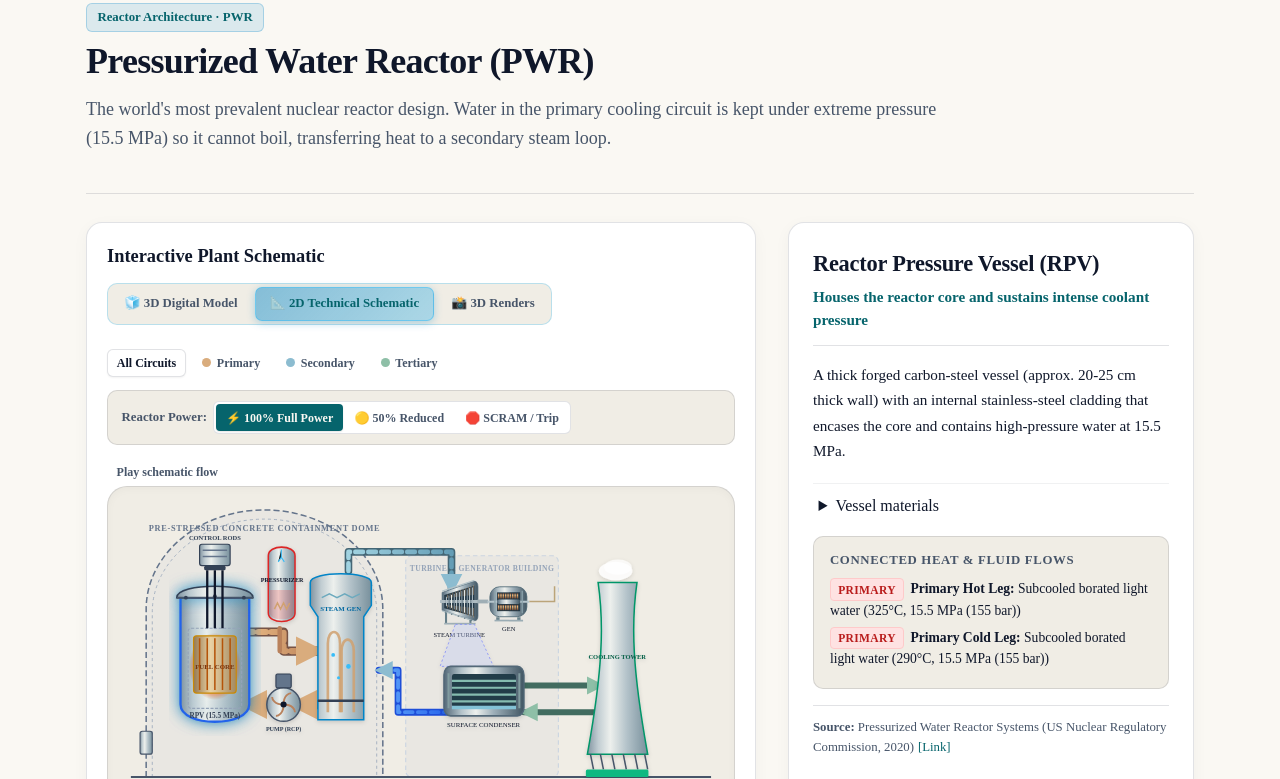
Test: ReactorExplorer Component (R15) › updates power level simulator state when buttons are clicked
The width and height of the screenshot is (1280, 779).
SCRAM button
Click the radio button labelled "🛑 SCRAM / Trip" at (512, 418), box [456,404,568,431]
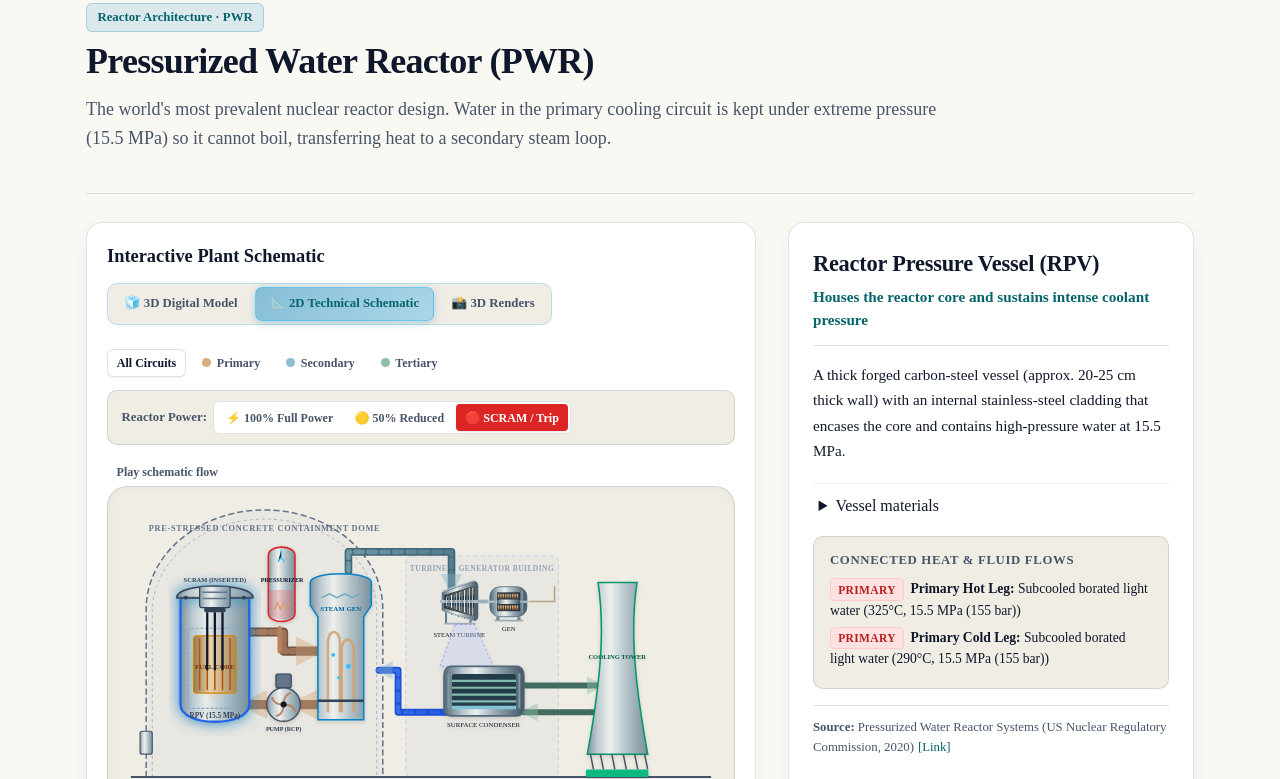
Check: the radio button labelled "🛑 SCRAM / Trip" is checked, box [456,404,568,431]
50% power button
Click the radio button labelled "🟡 50% Reduced" at (399, 418), box [345,404,454,431]
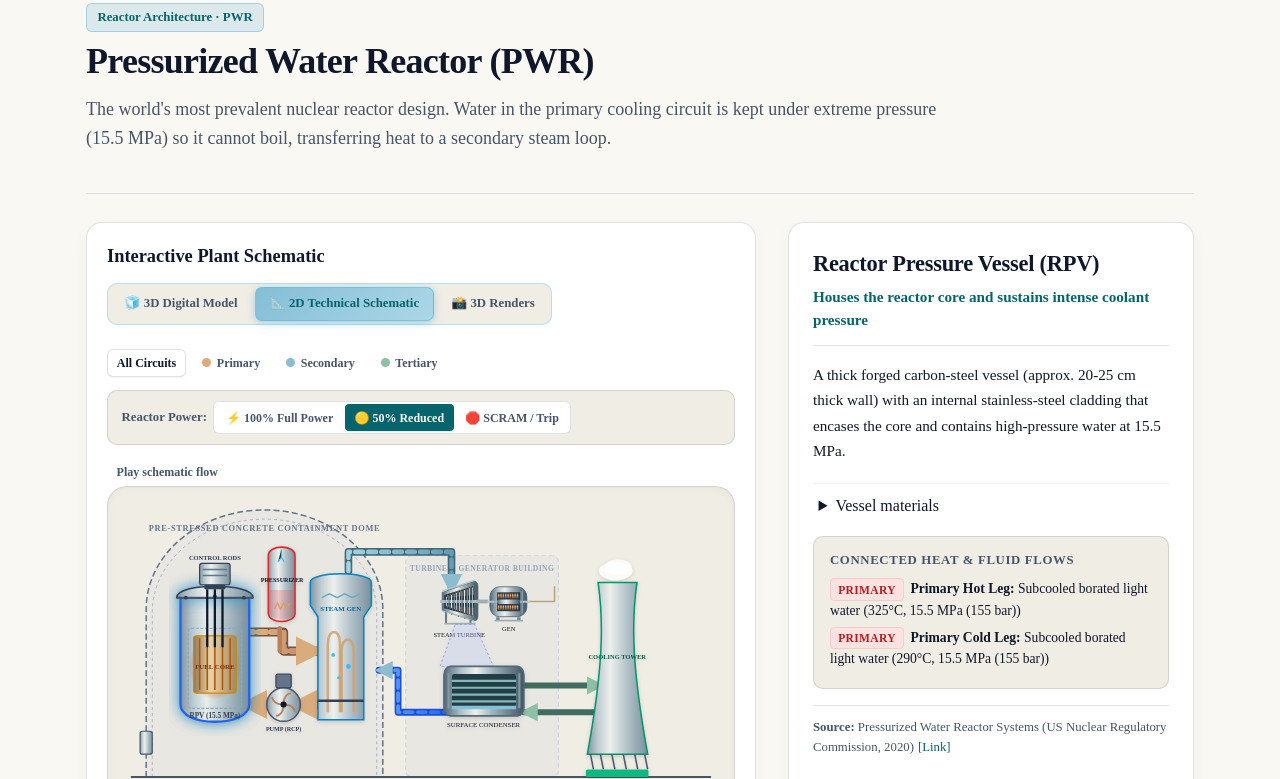
Check: the radio button labelled "🟡 50% Reduced" is checked, box [345,404,454,431]
100% full power button
Click the radio button labelled "⚡ 100% Full Power" at (280, 418), box [216,404,343,431]
(page scrolled)
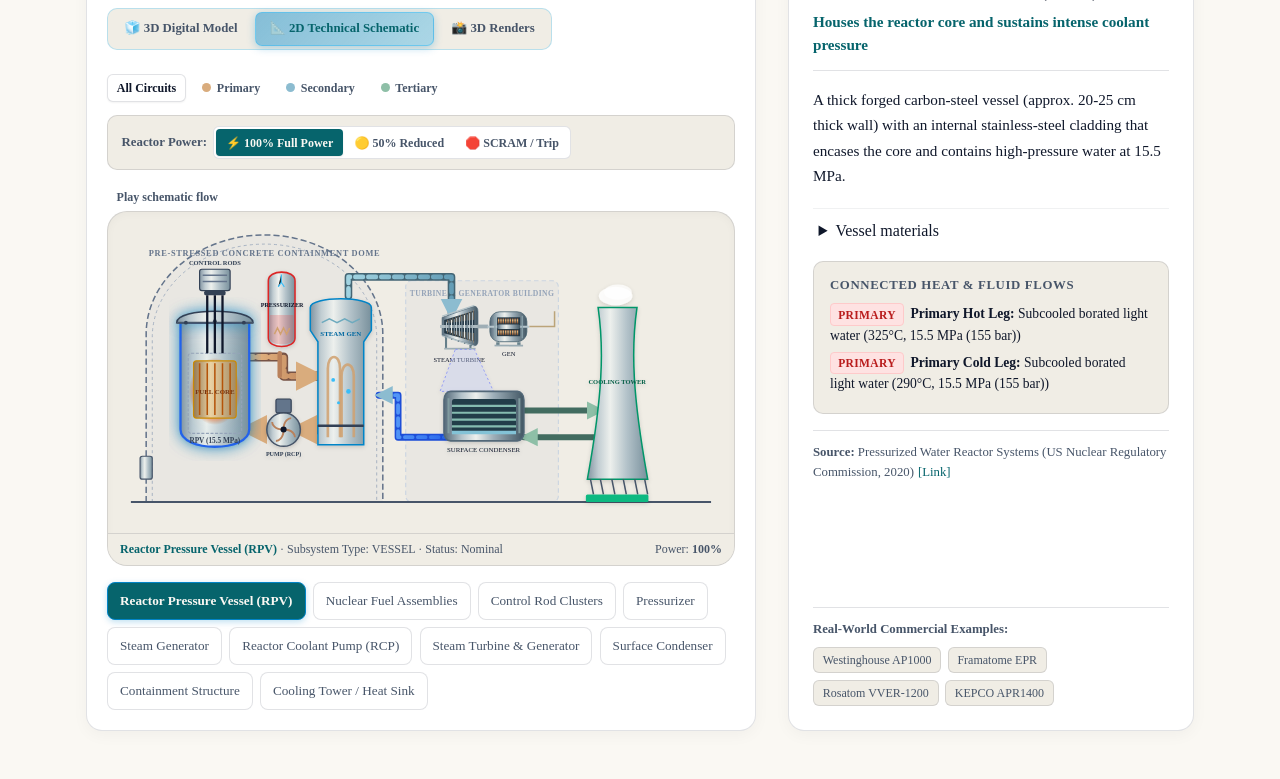
Check: the text "100%" is shown, box [692,542,722,556]
